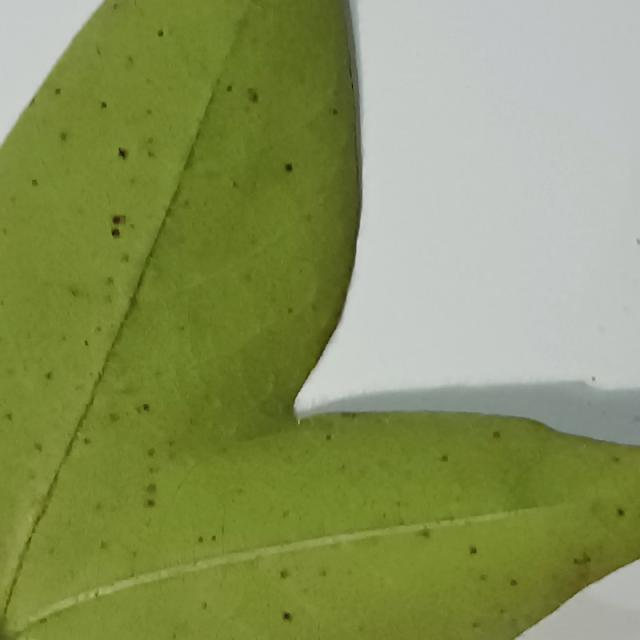Bacterial_Blight: (98, 203, 136, 242), (191, 527, 220, 545), (143, 480, 159, 509), (144, 137, 157, 160), (572, 551, 591, 565), (247, 88, 259, 103), (136, 403, 150, 415), (419, 526, 431, 538), (117, 147, 128, 160), (342, 412, 358, 420), (109, 412, 120, 423), (69, 287, 80, 298), (146, 447, 156, 458), (33, 442, 43, 453), (146, 483, 156, 493), (279, 569, 289, 579), (282, 611, 292, 621), (120, 253, 129, 263), (106, 276, 115, 286), (281, 509, 290, 519), (492, 430, 501, 439), (60, 132, 68, 142), (5, 412, 13, 422), (440, 454, 449, 462), (469, 546, 477, 555), (285, 163, 293, 172), (617, 508, 625, 517), (44, 371, 52, 380), (146, 136, 154, 145), (127, 55, 134, 65), (31, 179, 39, 187), (509, 579, 517, 587), (232, 180, 239, 189), (157, 29, 164, 37), (100, 101, 107, 109), (226, 84, 233, 92), (325, 433, 332, 441), (54, 88, 62, 95), (198, 536, 204, 544), (332, 108, 338, 115), (84, 339, 89, 346), (591, 376, 596, 382)
Cotton: (0, 0, 639, 639)
